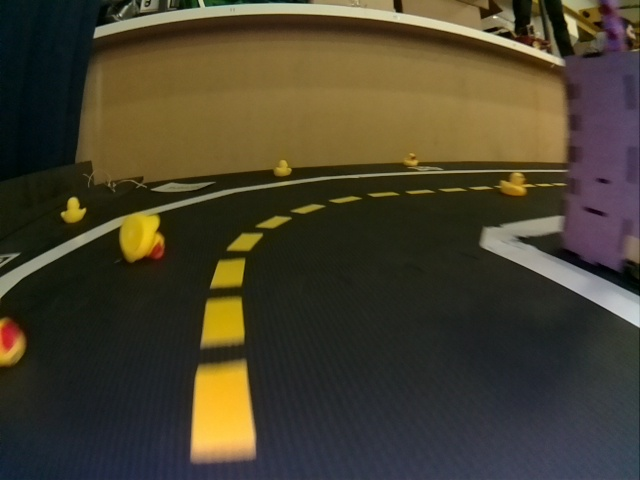Duckie: (121, 214, 163, 262), (1, 318, 24, 360), (61, 198, 85, 223), (502, 172, 526, 196), (274, 160, 291, 176), (404, 155, 417, 164)
QR code: (412, 166, 439, 175)
